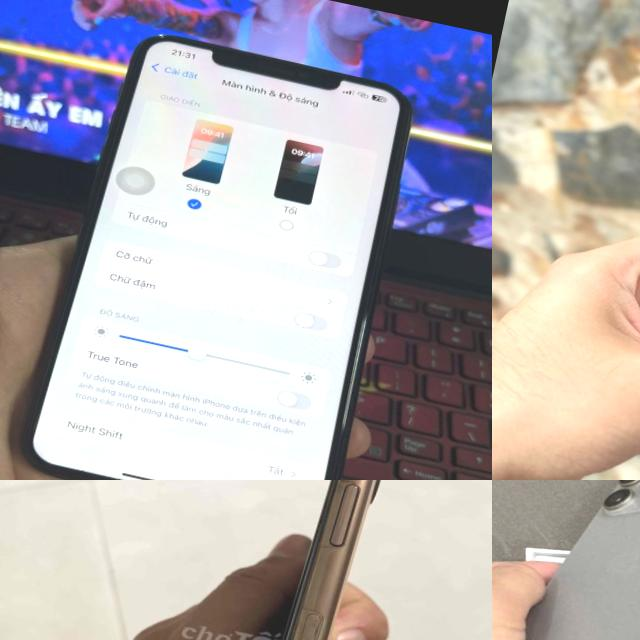gen_11: (14, 17, 424, 480), (182, 480, 410, 640)
gen_15: (512, 480, 640, 640)
